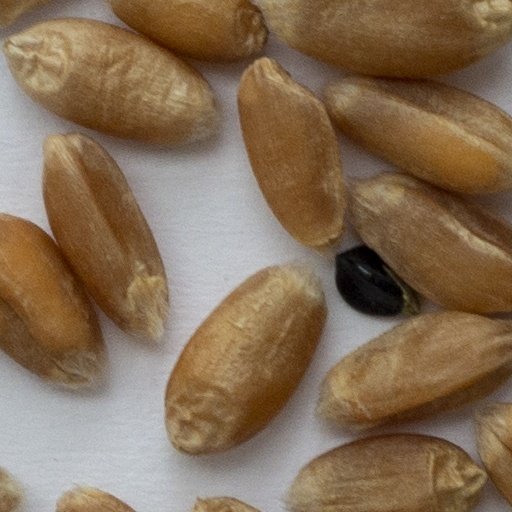Fallopia-Convolvulus-poly: (337, 248, 410, 315)
